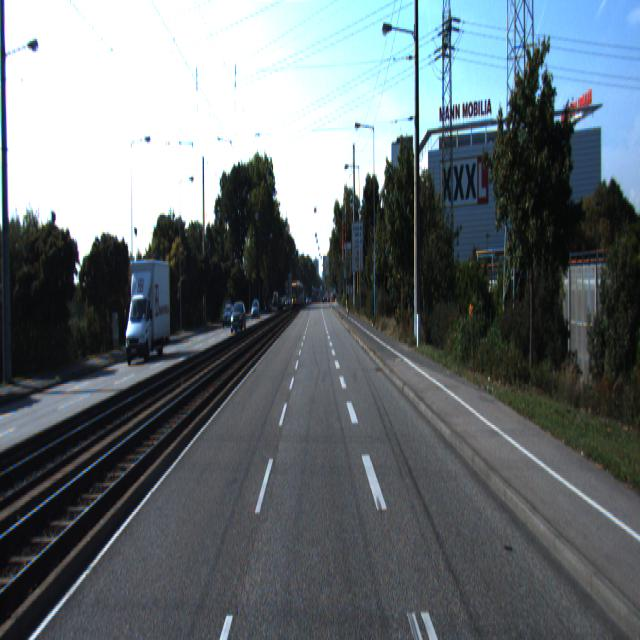Car: (122, 260, 171, 370), (230, 302, 247, 336)
